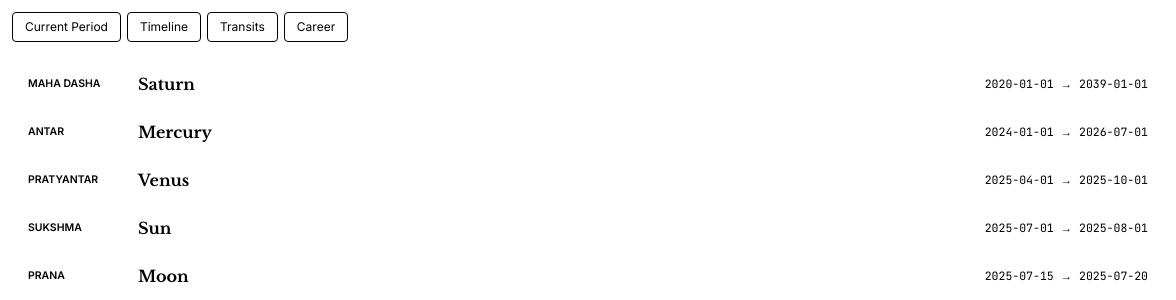
Test: TimeTab › shows transit Sun sign after clicking Transits tab
Click the tab "Transits": x=242, y=27 [207, 12, 278, 42]
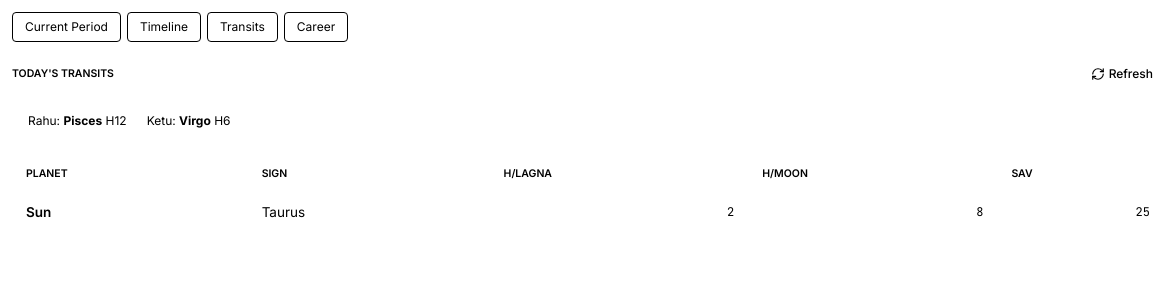
Expected: the text "Taurus" is shown, [248, 192, 490, 232]
